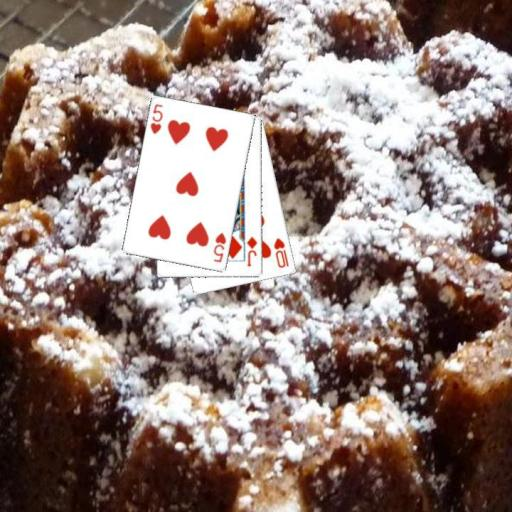10H: (271, 235, 291, 270)
5H: (147, 101, 164, 136), (211, 230, 228, 264)
JD: (244, 233, 259, 268)
